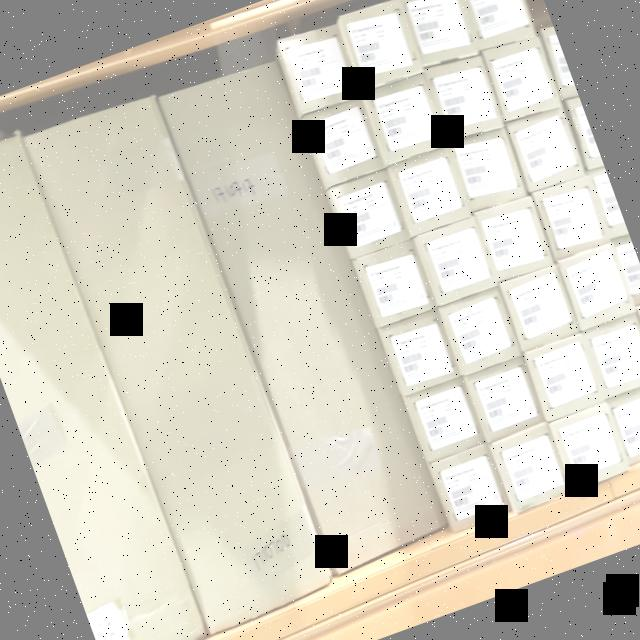box: (34, 97, 332, 632), (159, 56, 447, 572), (341, 0, 424, 90), (280, 23, 356, 112), (306, 100, 384, 185), (442, 292, 520, 377), (367, 78, 447, 160), (390, 149, 472, 229), (419, 217, 496, 301), (527, 336, 605, 418), (550, 405, 628, 486), (495, 426, 570, 509), (434, 444, 509, 526), (468, 360, 544, 440), (334, 175, 408, 257), (477, 196, 551, 278), (486, 35, 558, 118), (502, 268, 577, 346), (511, 112, 584, 190), (562, 246, 634, 324), (411, 384, 484, 460), (388, 314, 458, 392), (430, 59, 500, 135), (455, 128, 525, 204), (538, 181, 608, 255), (362, 250, 430, 324), (405, 0, 478, 67), (589, 319, 640, 392), (459, 0, 534, 47), (611, 386, 640, 459)
